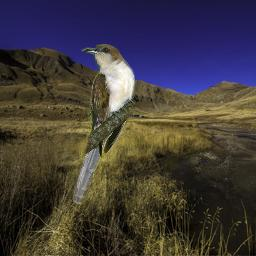Cuckoo: (72, 44, 136, 204)
